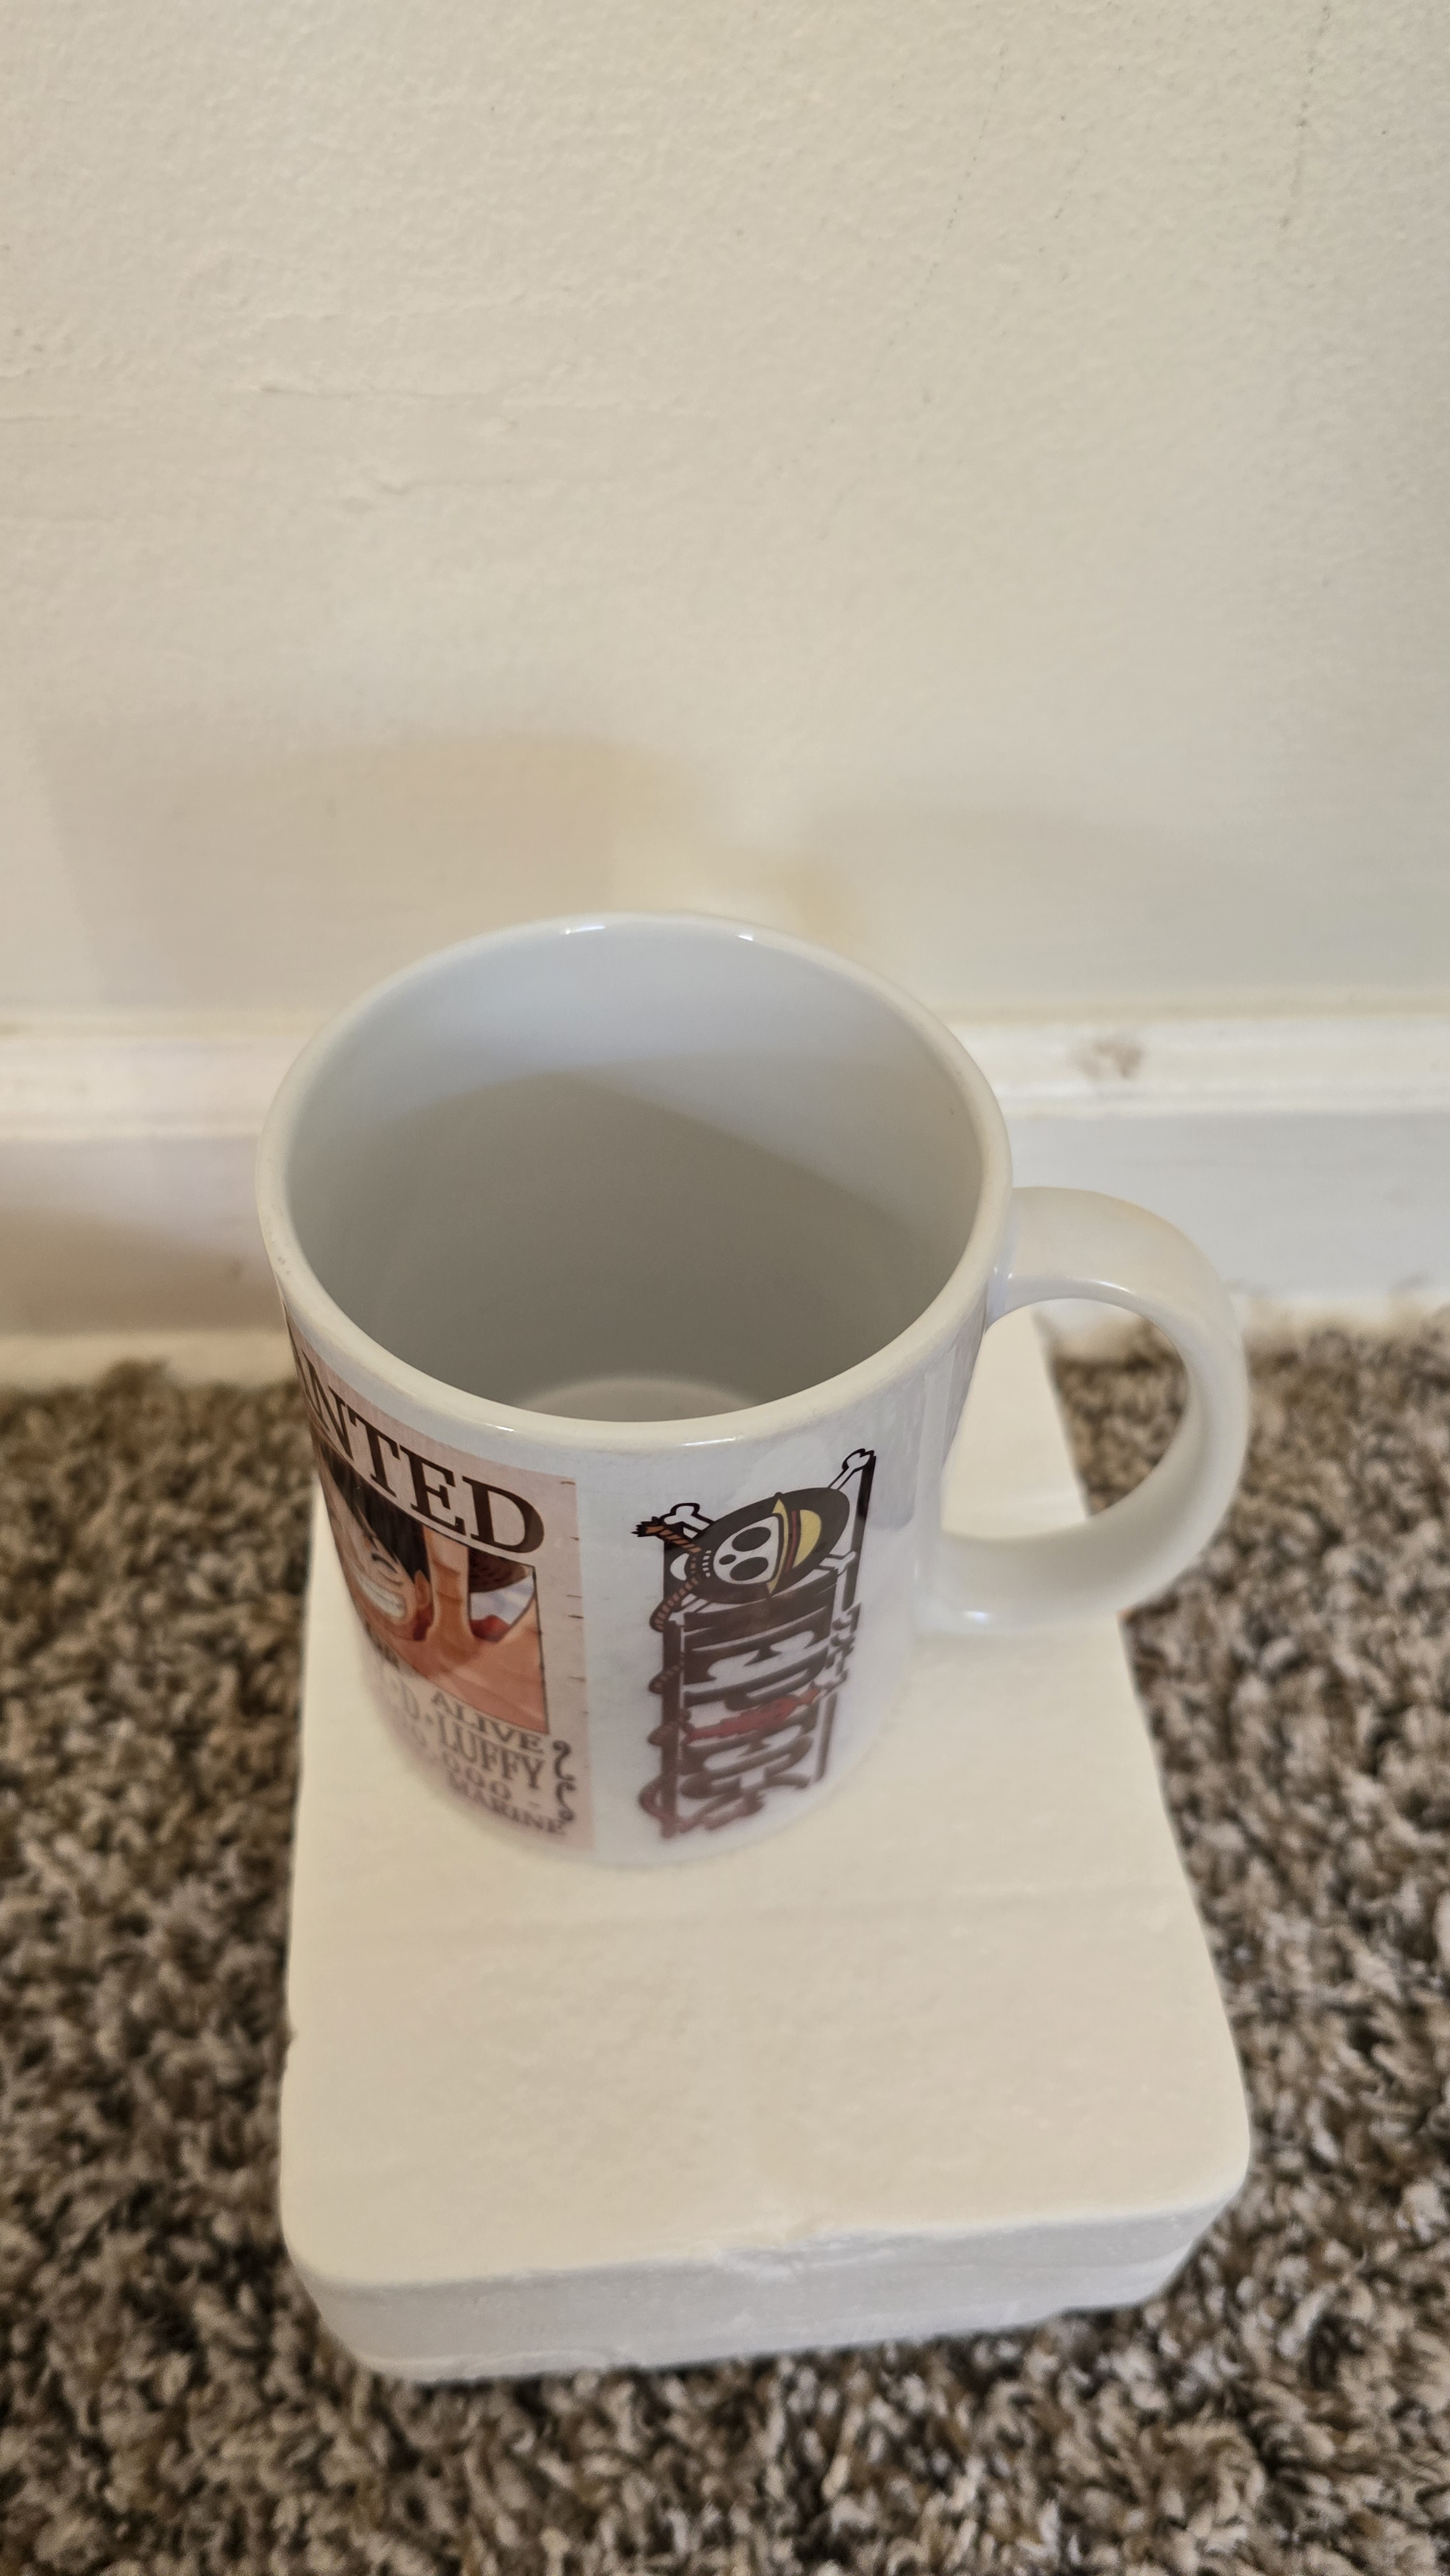mug: (235, 863, 1298, 1854)
